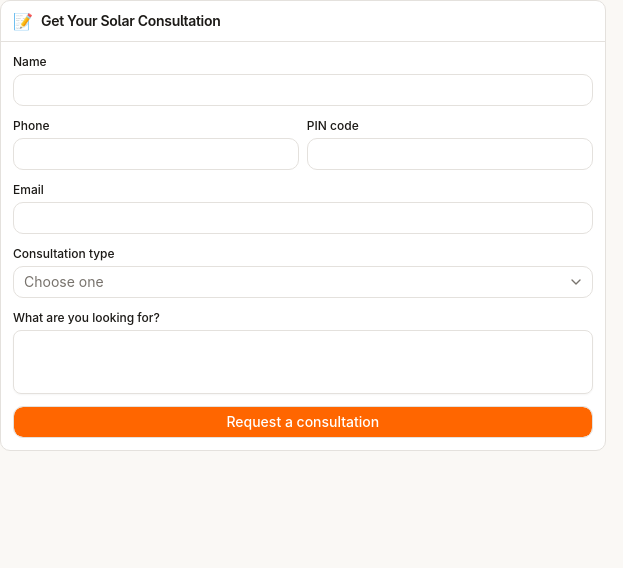
Scenario: LeadFormCard › blocks submission and reports every invalid field
This screenshot has width=623, height=568.
Click the button "Request a consultation": (303, 422) [13,406,593,438]
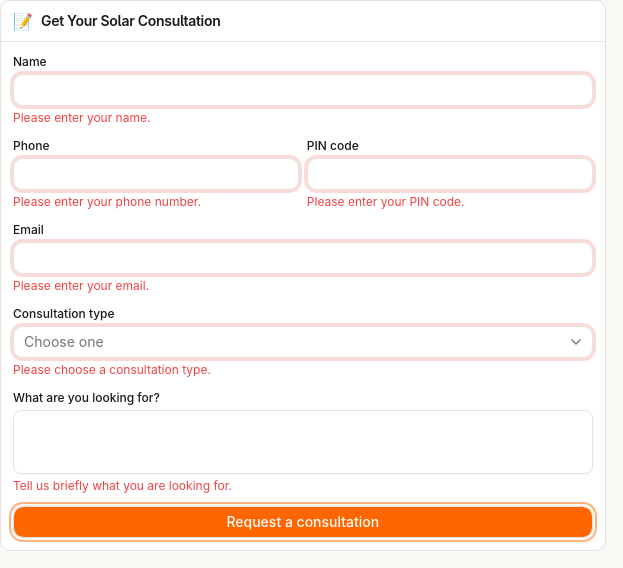
Now the text "Please enter your name." is shown, box [13,110,150,125]
Now the text "Please enter your phone number." is shown, box [13,194,201,209]
Now the text "Please choose a consultation type." is shown, box [13,362,211,377]
